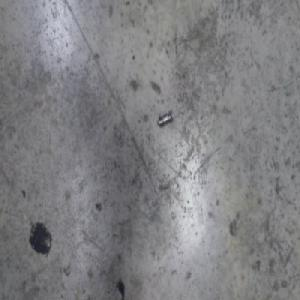Bolt: (157, 110, 173, 129)
